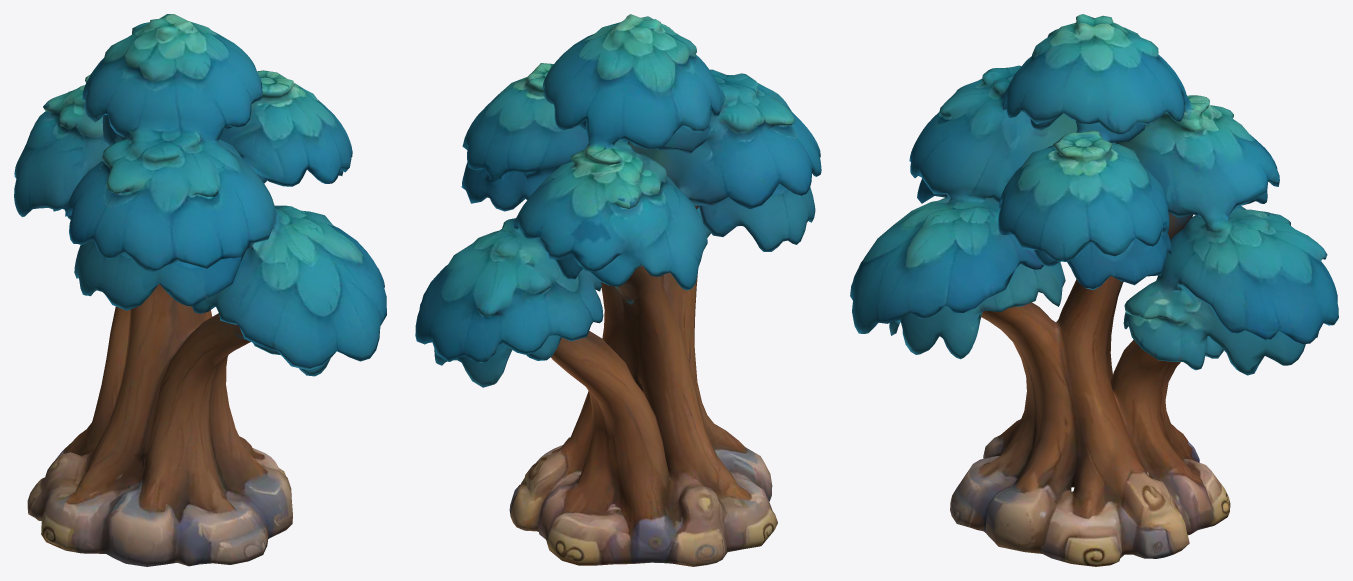
Rendered from 09-garden-teal-dome-tree.glb.
3 renders of one model, left to right at view 1: azimuth 30°, elevation 25°; view 2: azimuth 150°, elevation 25°; view 3: azimuth 270°, elevation 25°, orthographic.
Parts seen in each view (by area): view 1: tripo_node_a473a8bf; view 2: tripo_node_a473a8bf; view 3: tripo_node_a473a8bf.
Part boxes in pixels (x1,y1,x2,y2): tripo_node_a473a8bf: [14, 14, 386, 566]; tripo_node_a473a8bf: [415, 14, 821, 566]; tripo_node_a473a8bf: [850, 14, 1338, 566].
Bounding box in the file's own units: 0.2481 × 0.4 × 0.3511.
1 material, 1 textured.
